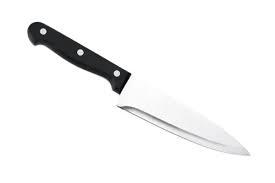Knife: (26, 20, 251, 156)
